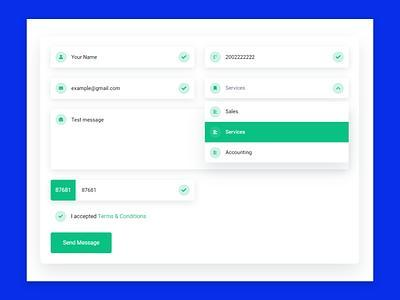button: (51, 232, 113, 255)
checkbox: (56, 210, 68, 223)
dropdown: (205, 77, 353, 101)
input: (205, 45, 352, 70), (49, 48, 197, 72), (48, 77, 197, 100), (77, 181, 198, 203)
label: (70, 212, 153, 223)
